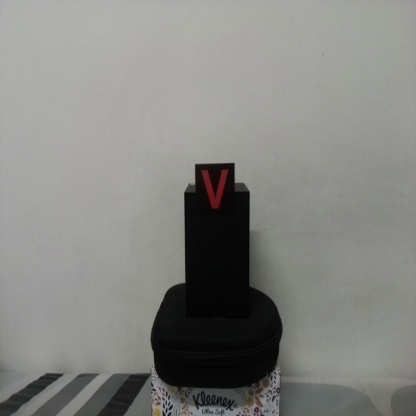id_11: (195, 164, 235, 220)
